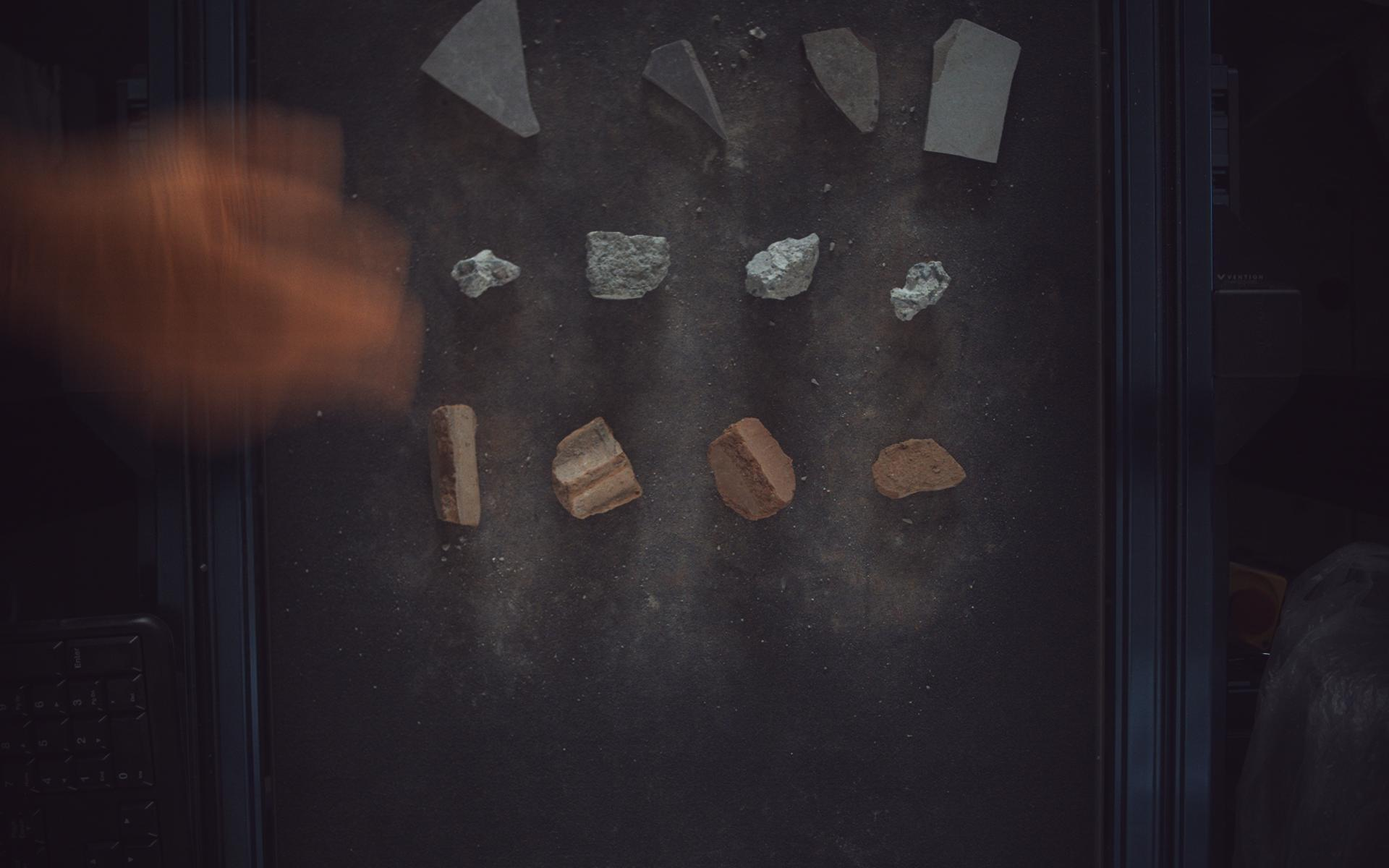brick: (709, 417, 797, 521), (553, 417, 642, 519), (429, 404, 481, 527), (875, 439, 968, 499)
concrete: (587, 231, 671, 299), (747, 232, 820, 299), (893, 261, 953, 321), (451, 249, 520, 297)
tile: (421, 1, 540, 136), (926, 17, 1023, 161), (644, 38, 729, 139), (805, 27, 882, 132)
